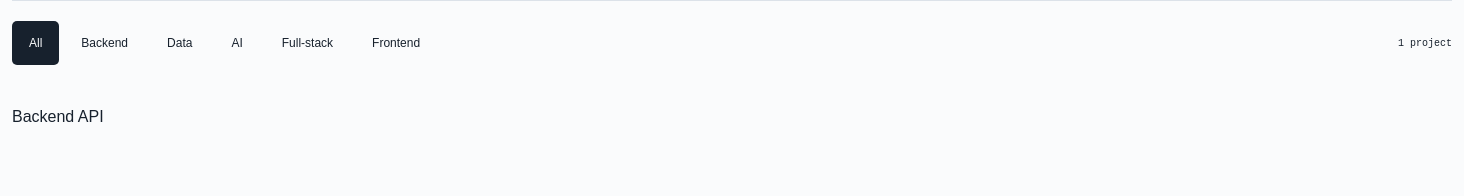
it: project discovery › shows an honest empty state for an unrepresented category
Step 1. Click the button "AI" → (237, 43), box [214,21,260,65]
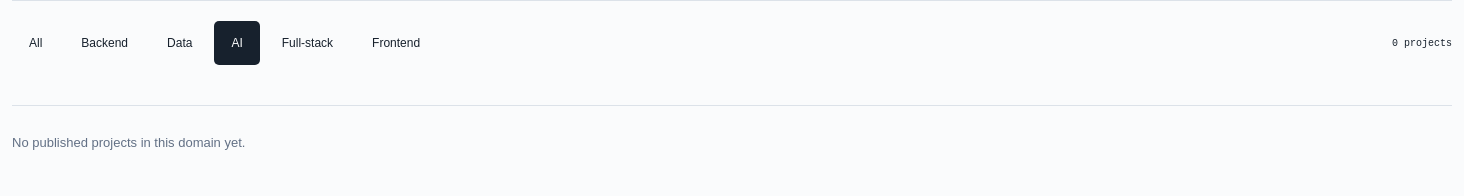
Expected: the message reads "0 projects", [1392,38,1452,48]
Expected: the text "No published projects in this domain yet." is shown, [12,105,1452,179]
